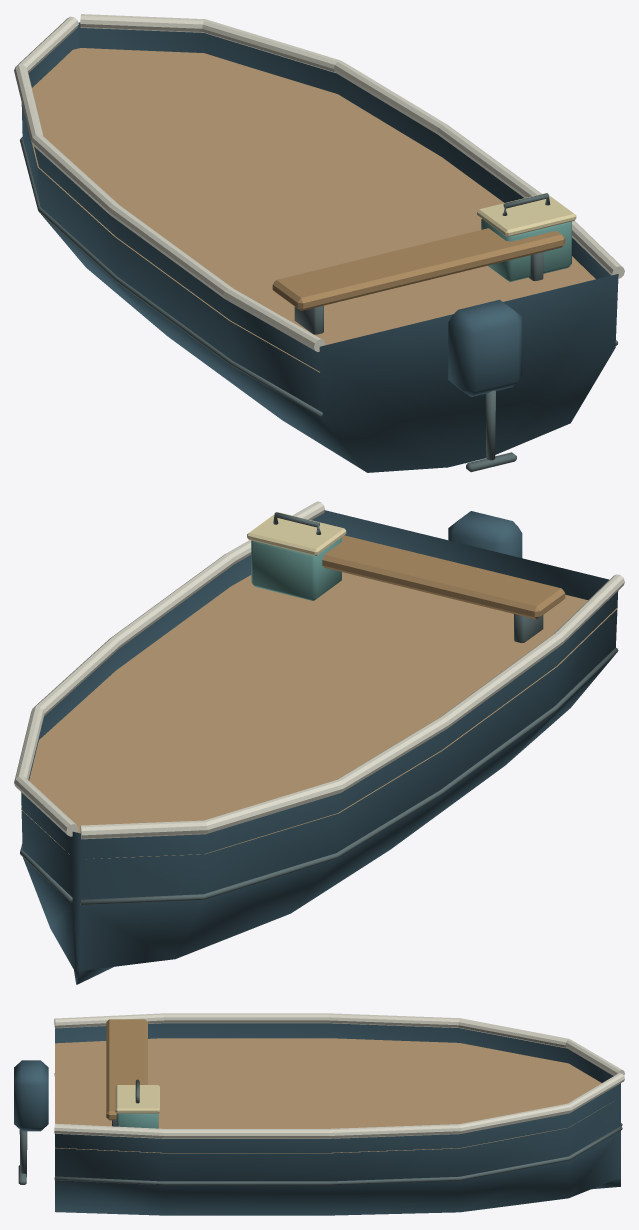
Rendered from station_boat.glb.
3 renders of one model, top to bottom at view 1: azimuth 30°, elevation 25°; view 2: azimuth 150°, elevation 25°; view 3: azimuth 270°, elevation 25°, orthographic. The views are drawn at different scales.
Parts seen in each view (by area): view 1: DockPale, NavyHull, Plaster, DockHoney, Iron, Canvas, Enamel; view 2: DockPale, NavyHull, Plaster, DockHoney, Iron, Enamel, Canvas; view 3: NavyHull, DockPale, Plaster, Iron, DockHoney, Canvas, Enamel.
Boxes of the visible parts, x1,y1,x2,y2 form: DockPale: (32,48,617,372); NavyHull: (21,22,618,472); Plaster: (14,14,624,351); DockHoney: (272,228,565,310); Iron: (20,137,617,472); Canvas: (477,193,576,236); Enamel: (481,219,571,281); DockPale: (21,572,617,859); NavyHull: (21,510,618,984); Plaster: (14,501,624,839); DockHoney: (322,535,565,619); Iron: (20,512,618,905); Enamel: (251,537,341,600); Canvas: (247,512,346,555); NavyHull: (14,1023,620,1215); DockPale: (55,1038,613,1153); Plaster: (54,1013,624,1138); Iron: (18,1073,622,1185); DockHoney: (106,1019,147,1120); Canvas: (115,1085,159,1113); Enamel: (116,1113,158,1128).
Bounding box in the file's own units: 3.26 × 1.77 × 7.02.
